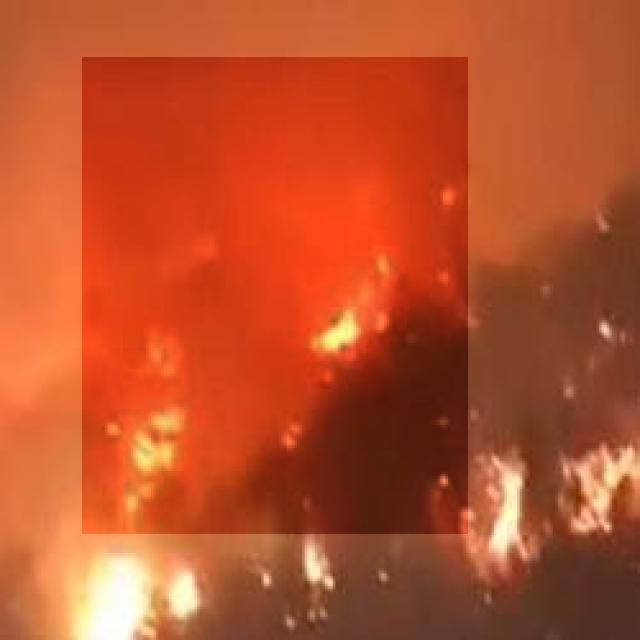Smoke: (82, 57, 468, 534)
